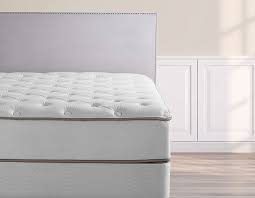bed-matress: (1, 72, 173, 164)
